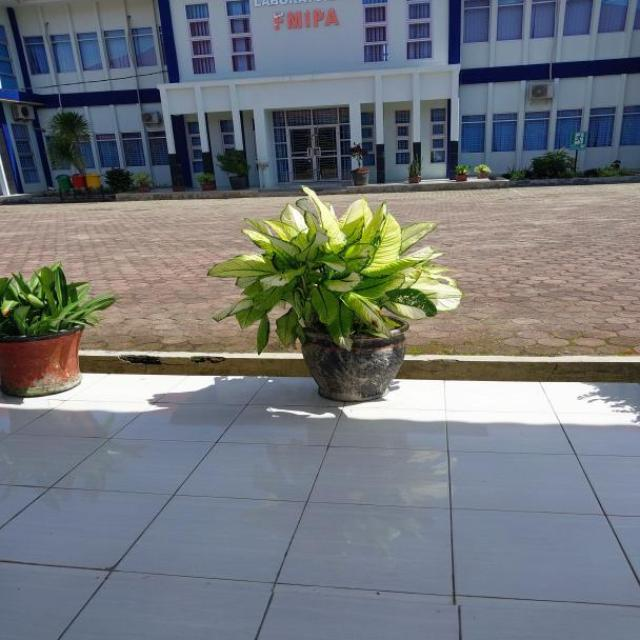plant ahead at: (223, 180, 456, 403)
